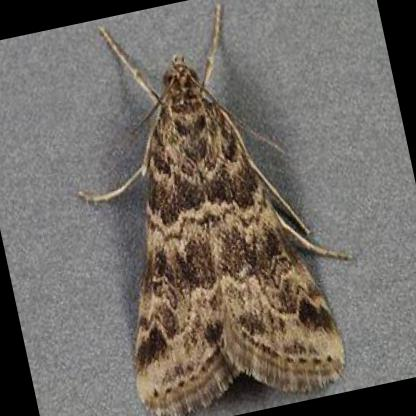Hellula undalis: (73, 0, 356, 413)
